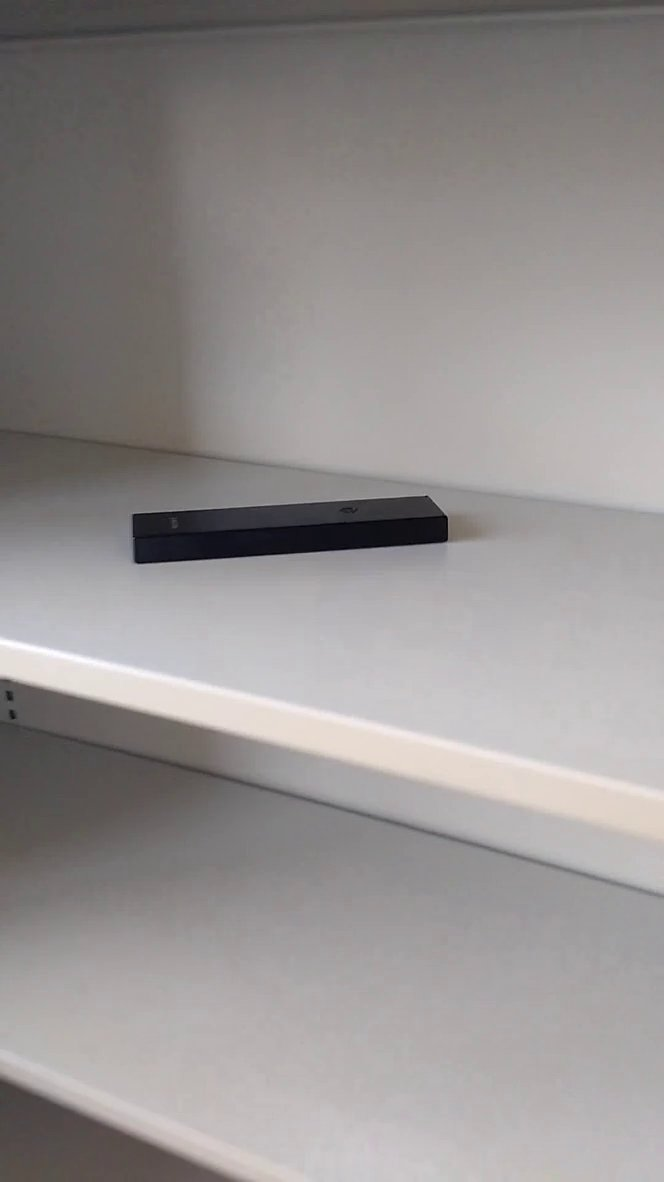remote: (121, 484, 462, 570)
